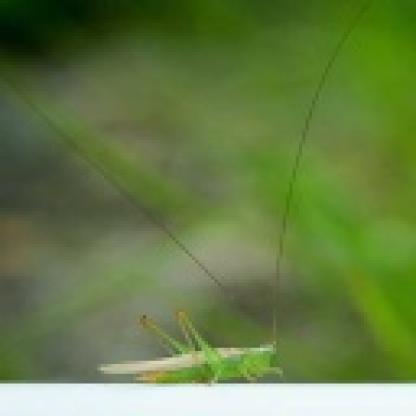grasshopper: (89, 302, 283, 386)
